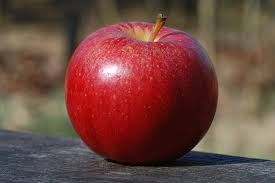apple: (69, 30, 220, 166)
